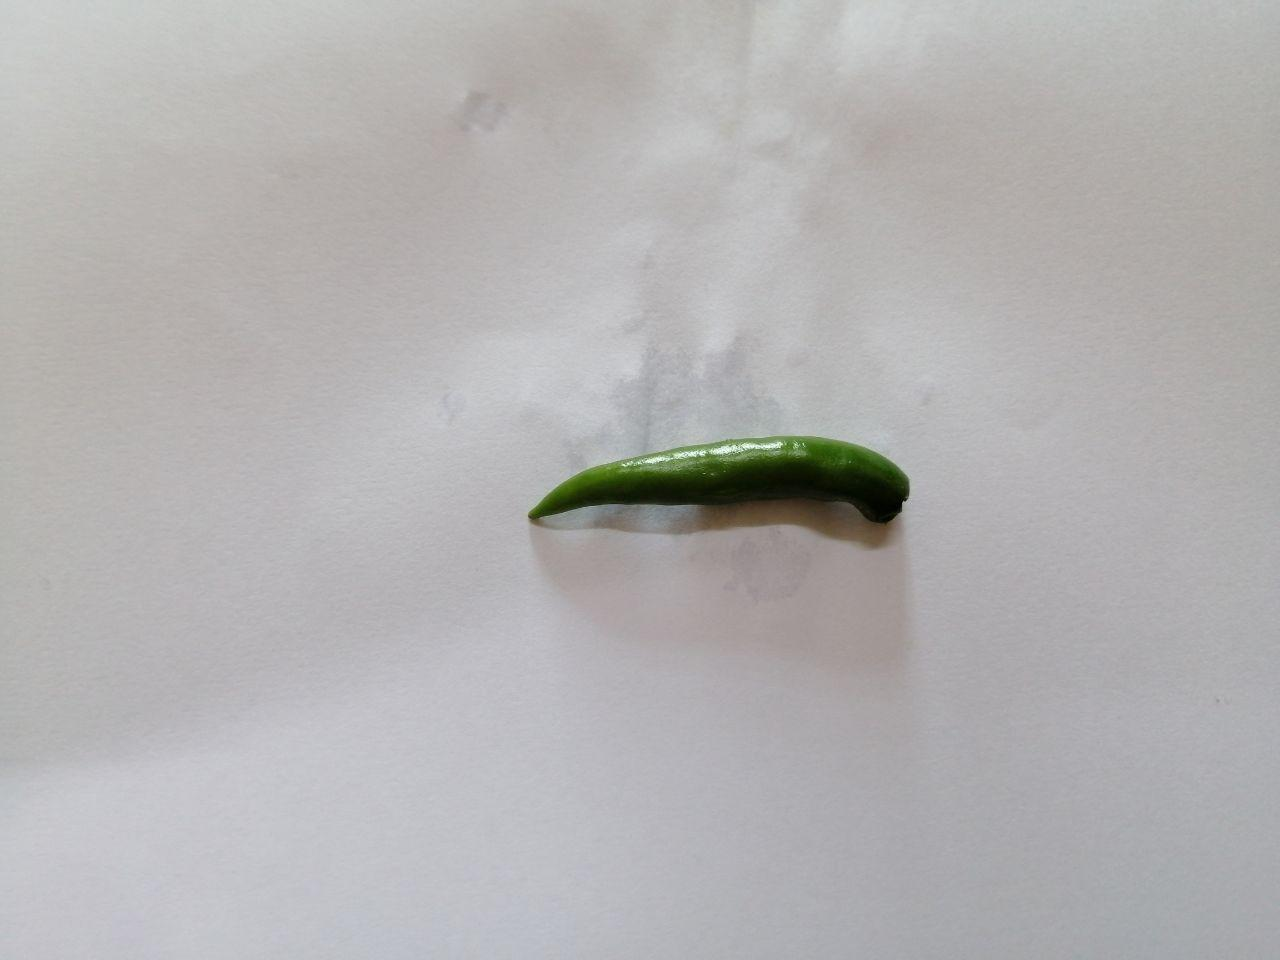lada hijau: (516, 406, 919, 572)
